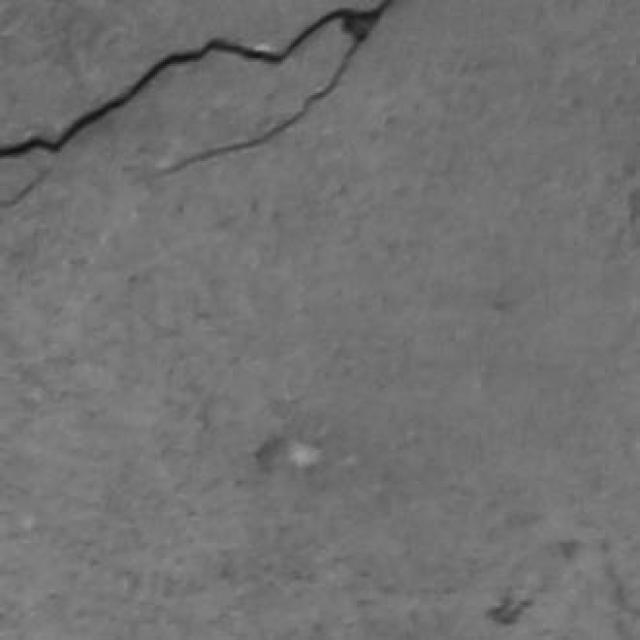crack: (0, 0, 395, 159), (154, 0, 393, 178), (154, 43, 356, 178), (0, 169, 48, 209)
